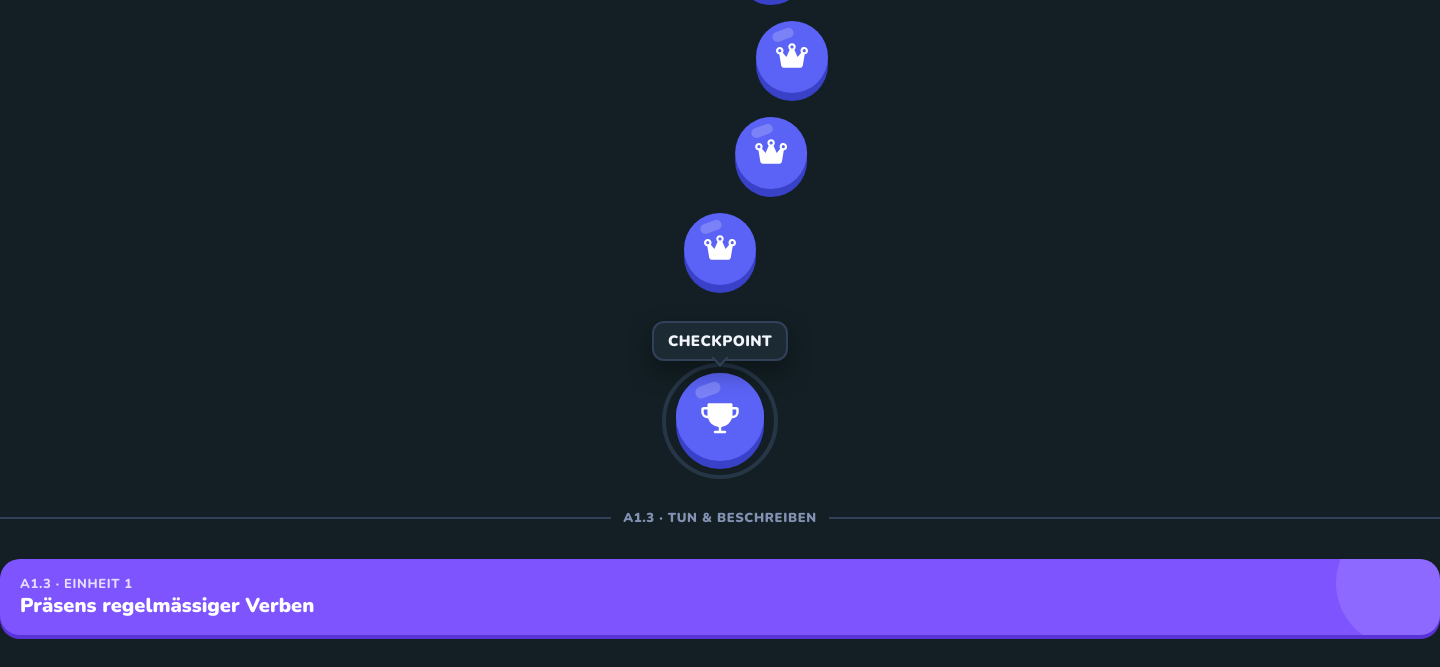
it: LearningPathPage checkpoints › tells the size and pass mark of the checkpoint as the plan reports them
(page scrolled)
Click the button named "Checkpoint A1.2, als Nächstes" at (720, 417), box [676, 373, 764, 461]
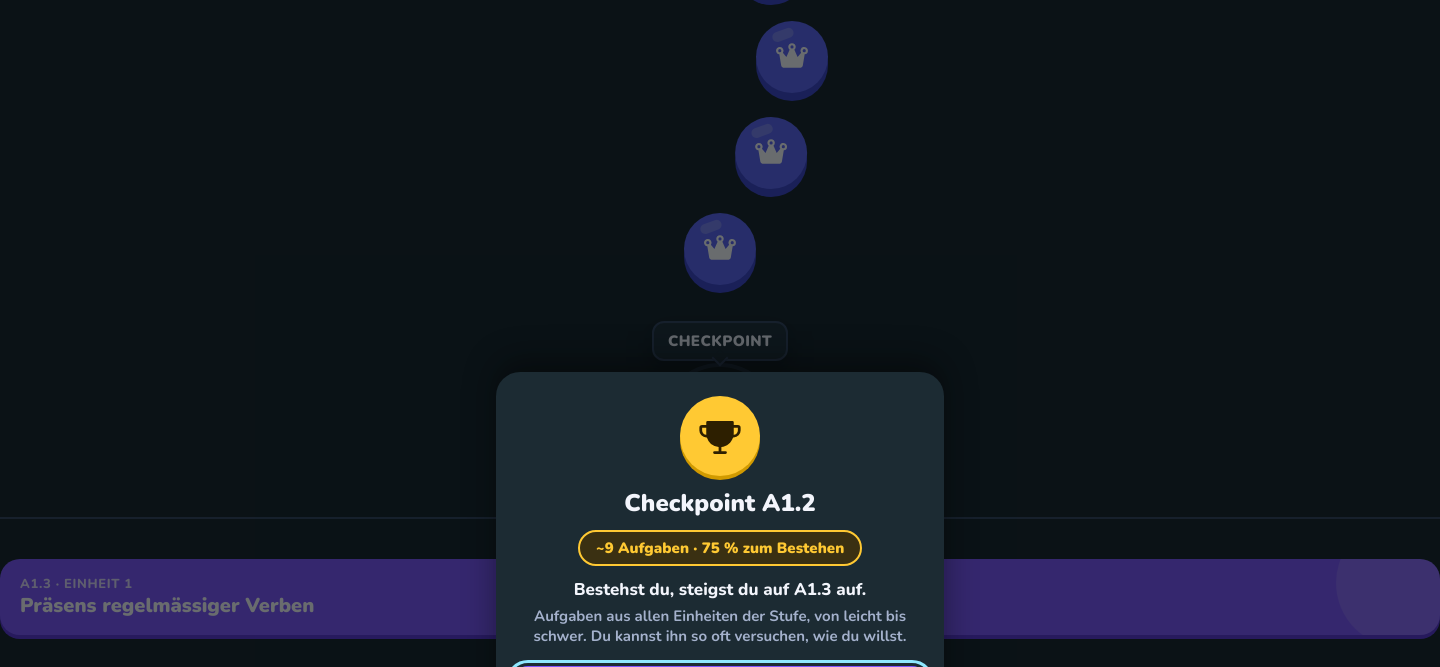
Check: the text "~9 Aufgaben · 75 % zum Bestehen" is shown, box [578, 530, 862, 566]
